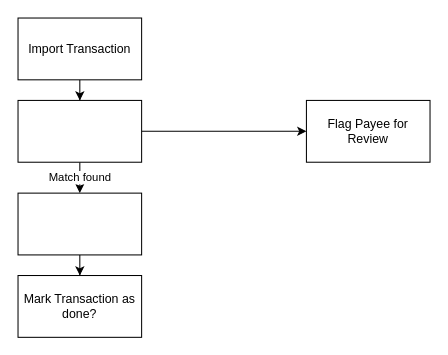
This 448x355 diagram has some shape labels left out. Here are the shapes that lost their labels. From the top down, the centre of each, then its label:
(x=79, y=130): Check Payee Description against Payee Variants
(x=79, y=223): Assign Payee ID to Transaction
